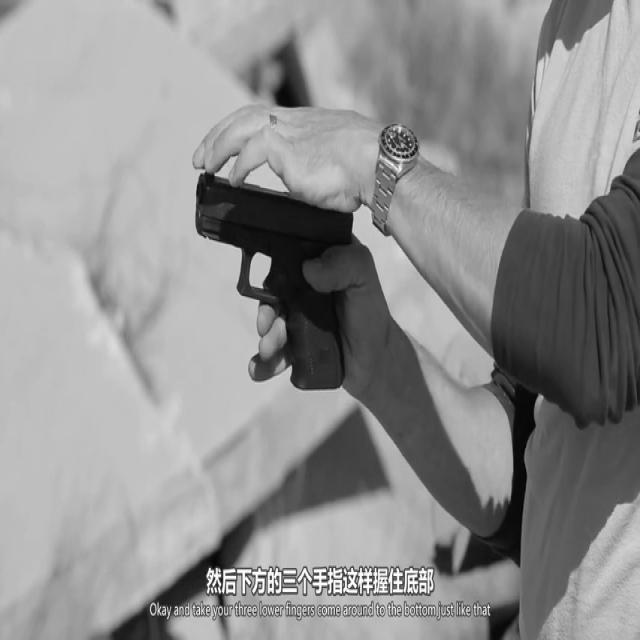Hand-Gun: (180, 150, 369, 415)
